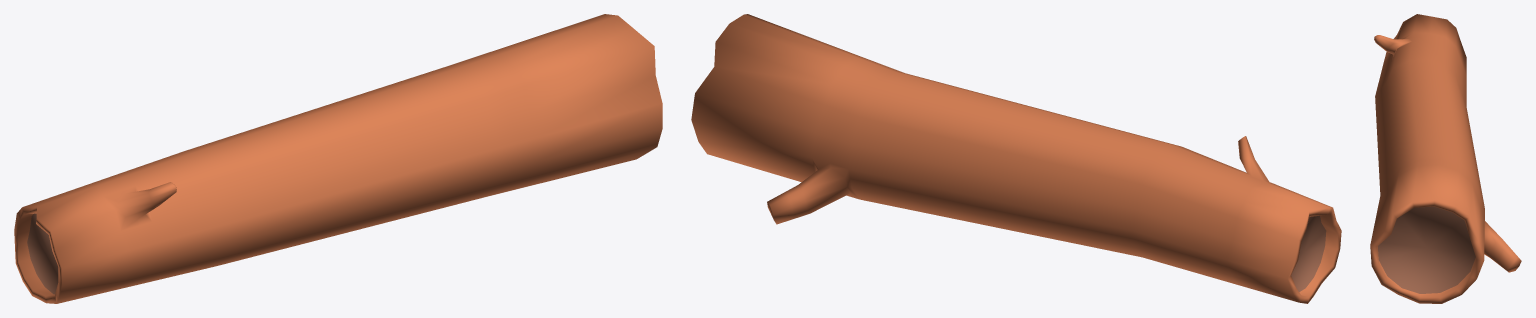
Rendered from V1.Log02.fbx.
The picture shows the model from 3 angles, left to right: view 1: azimuth 30°, elevation 25°; view 2: azimuth 150°, elevation 25°; view 3: azimuth 270°, elevation 25°; orthographic projection. The views are drawn at different scales.
Visible parts, largest first — view 1: Cylinder; view 2: Cylinder; view 3: Cylinder.
Part boxes in pixels (x1=…): Cylinder: x1=14, y1=14, x2=662, y2=303; Cylinder: x1=691, y1=14, x2=1341, y2=303; Cylinder: x1=1370, y1=14, x2=1521, y2=303.
Size of the model in its own units: 865 by 193 by 243.
